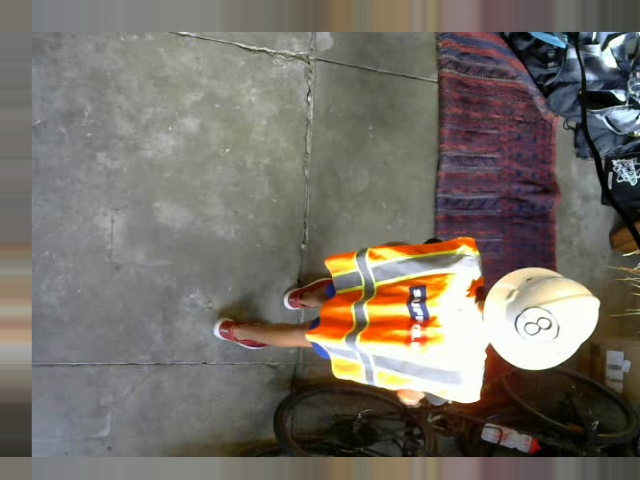eight: (513, 305, 561, 345)
